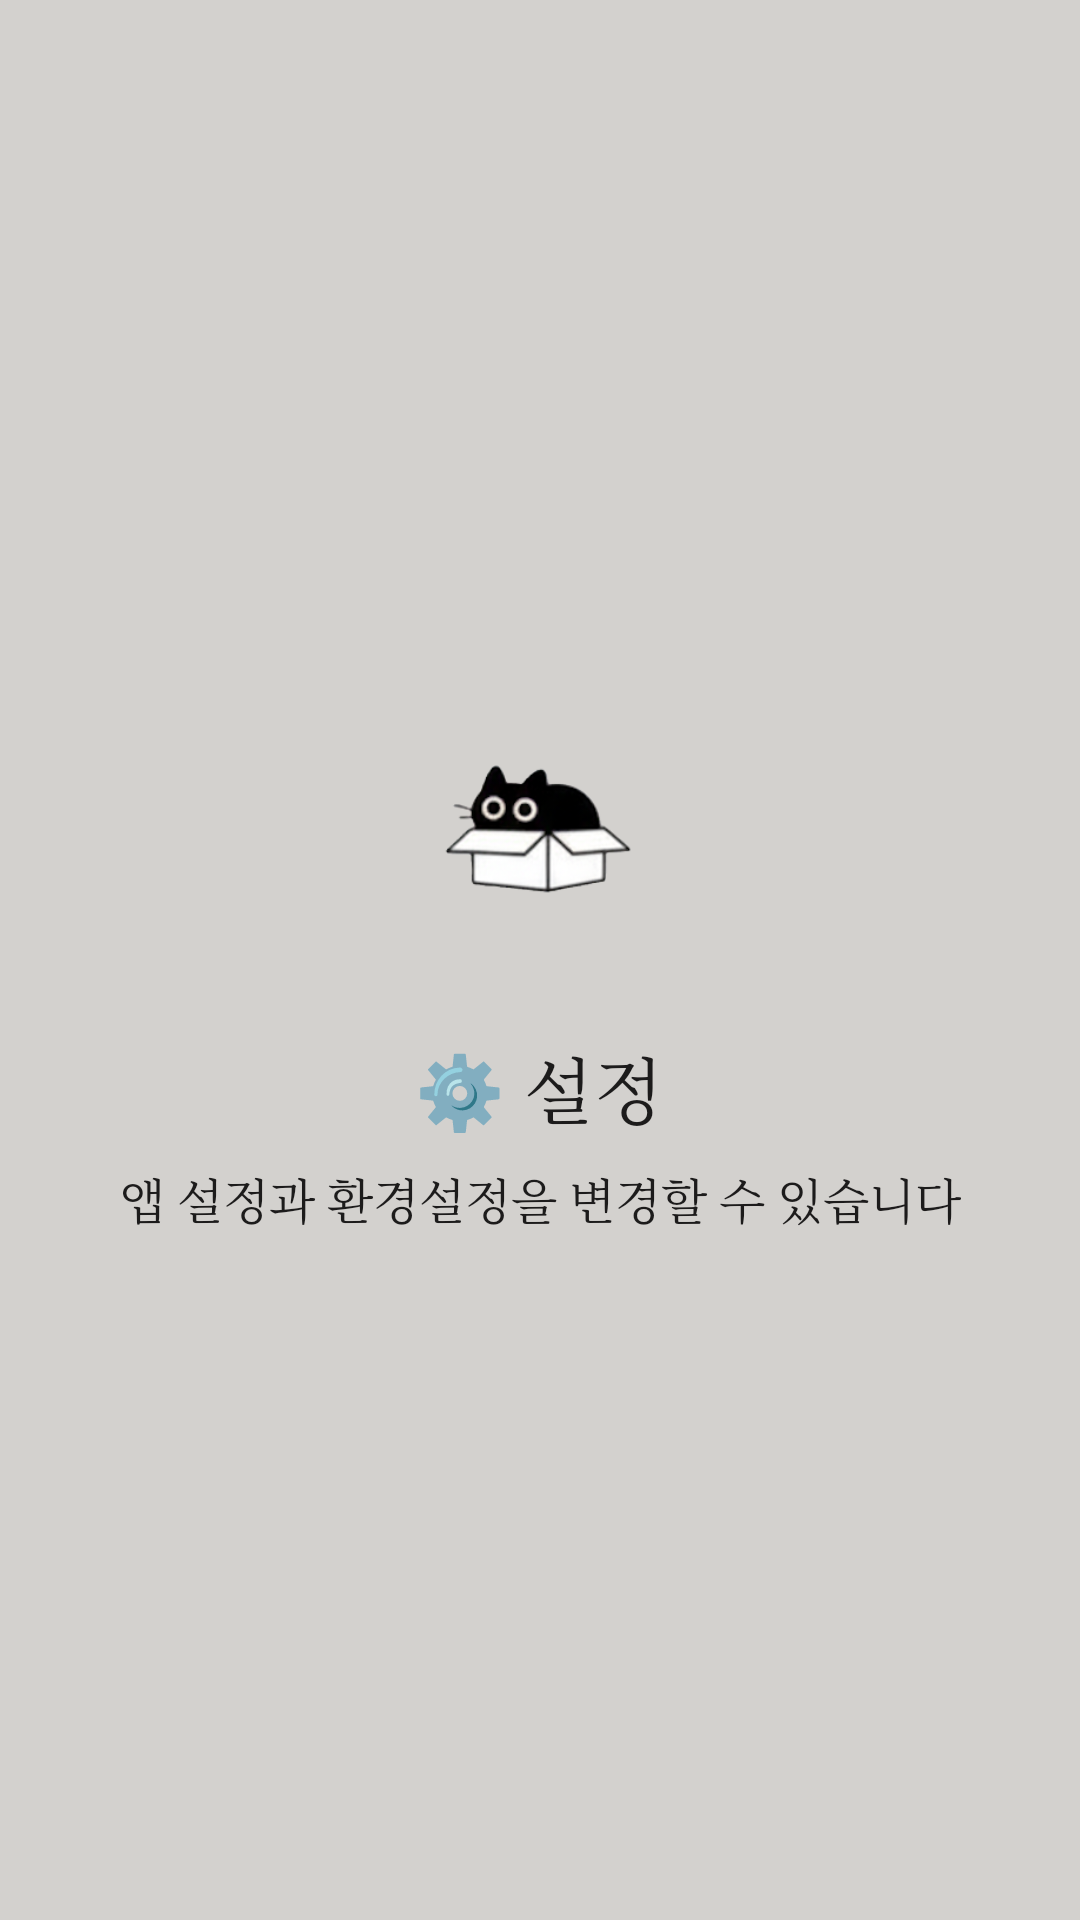

Where icons sit on this 1080px x 1920px app screen, as (x1, y1, x2, y2):
cat: (446, 765, 631, 893)
